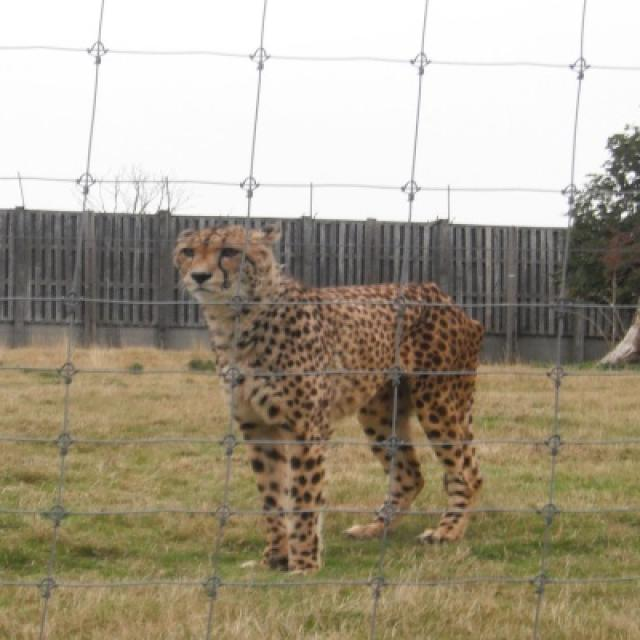Cheetah: (174, 226, 482, 570)
